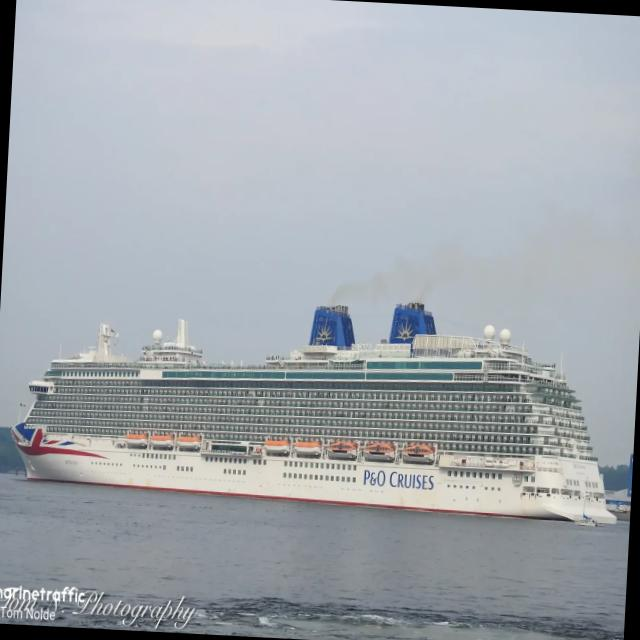Cruise: (11, 303, 615, 521)
